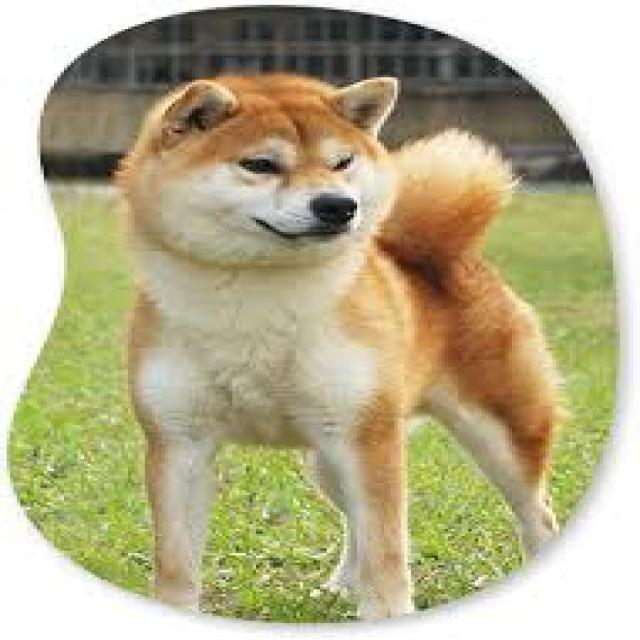Shiba-Inu: (118, 76, 562, 620)
